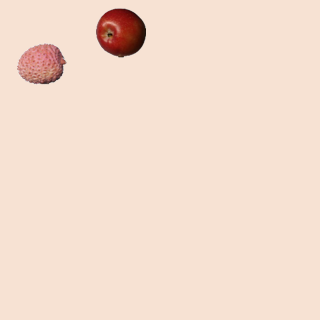Apple Braeburn: (95, 7, 145, 57)
Lychee: (16, 38, 66, 88)
